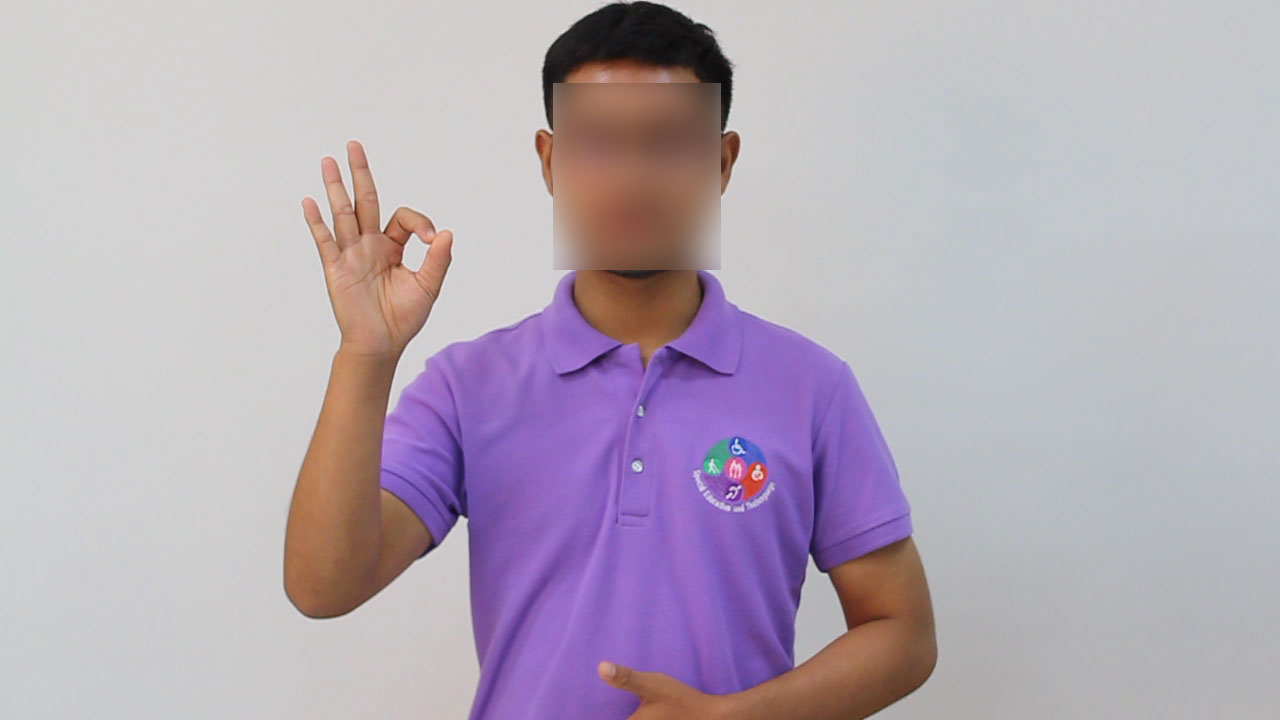for: (295, 125, 460, 379)
